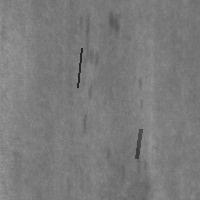inclusion: (74, 14, 102, 71), (115, 143, 150, 187), (103, 8, 124, 39), (77, 109, 93, 140), (75, 46, 83, 89), (134, 127, 142, 160)
